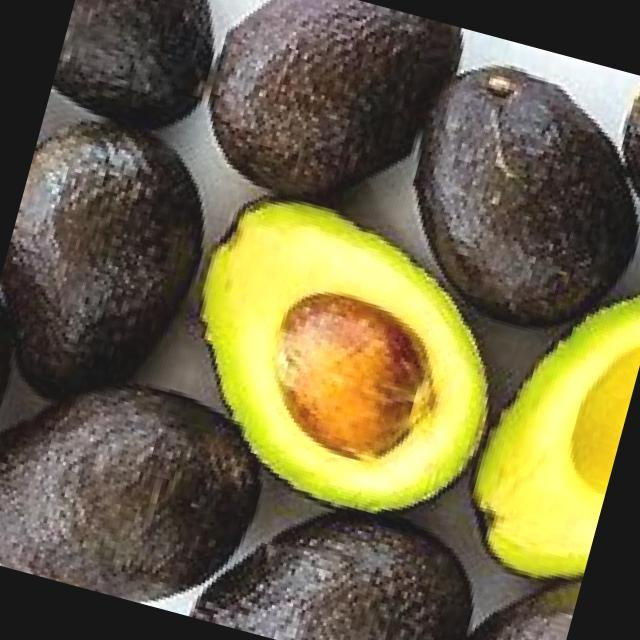avocado: (155, 174, 532, 534), (380, 35, 640, 351), (0, 343, 277, 625), (0, 111, 239, 437), (182, 0, 480, 235)
